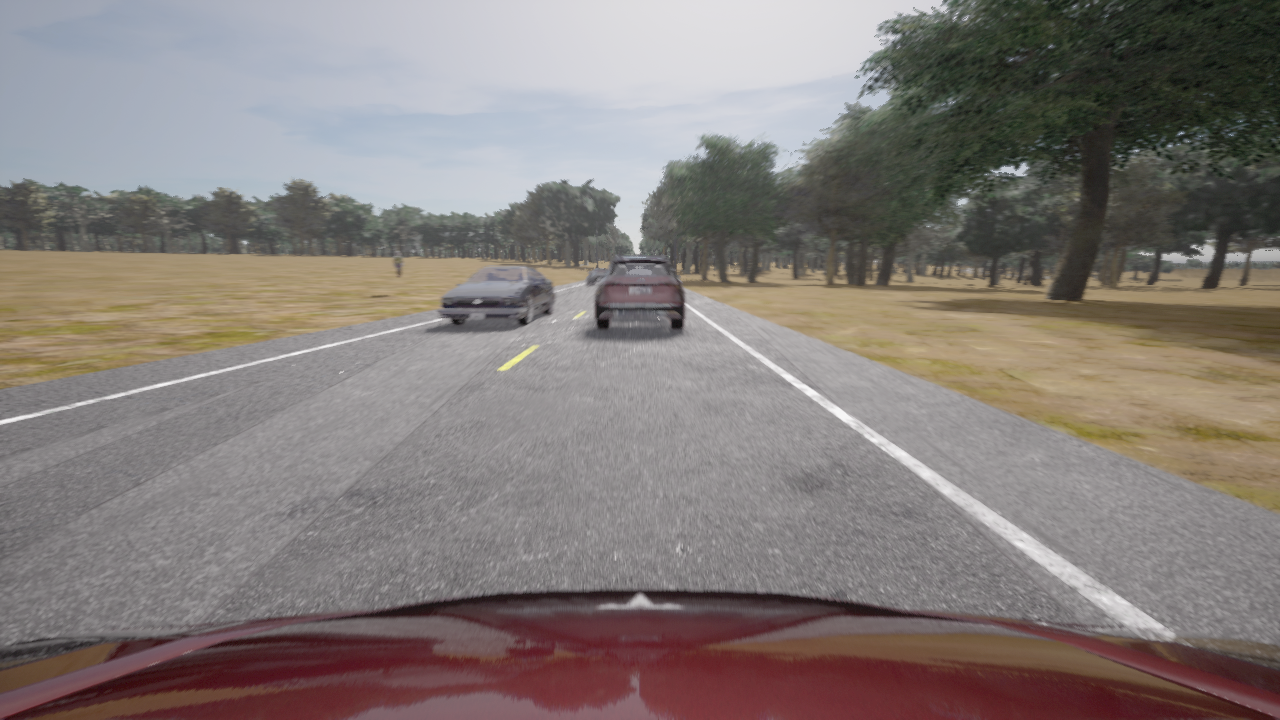cyclist: (0, 588, 1279, 719), (438, 265, 554, 324), (595, 254, 684, 328), (587, 269, 605, 284)
pedestrian: (394, 251, 402, 276)
